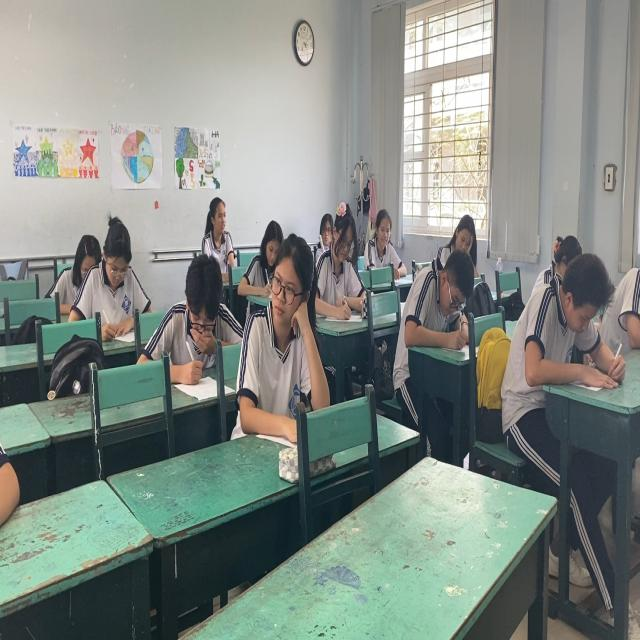cheating: (250, 213, 320, 414)
not_cheating: (520, 241, 624, 389), (158, 252, 243, 372), (68, 210, 142, 338), (411, 258, 476, 348), (317, 206, 362, 327), (364, 204, 409, 278), (452, 210, 490, 265), (202, 199, 237, 255)
